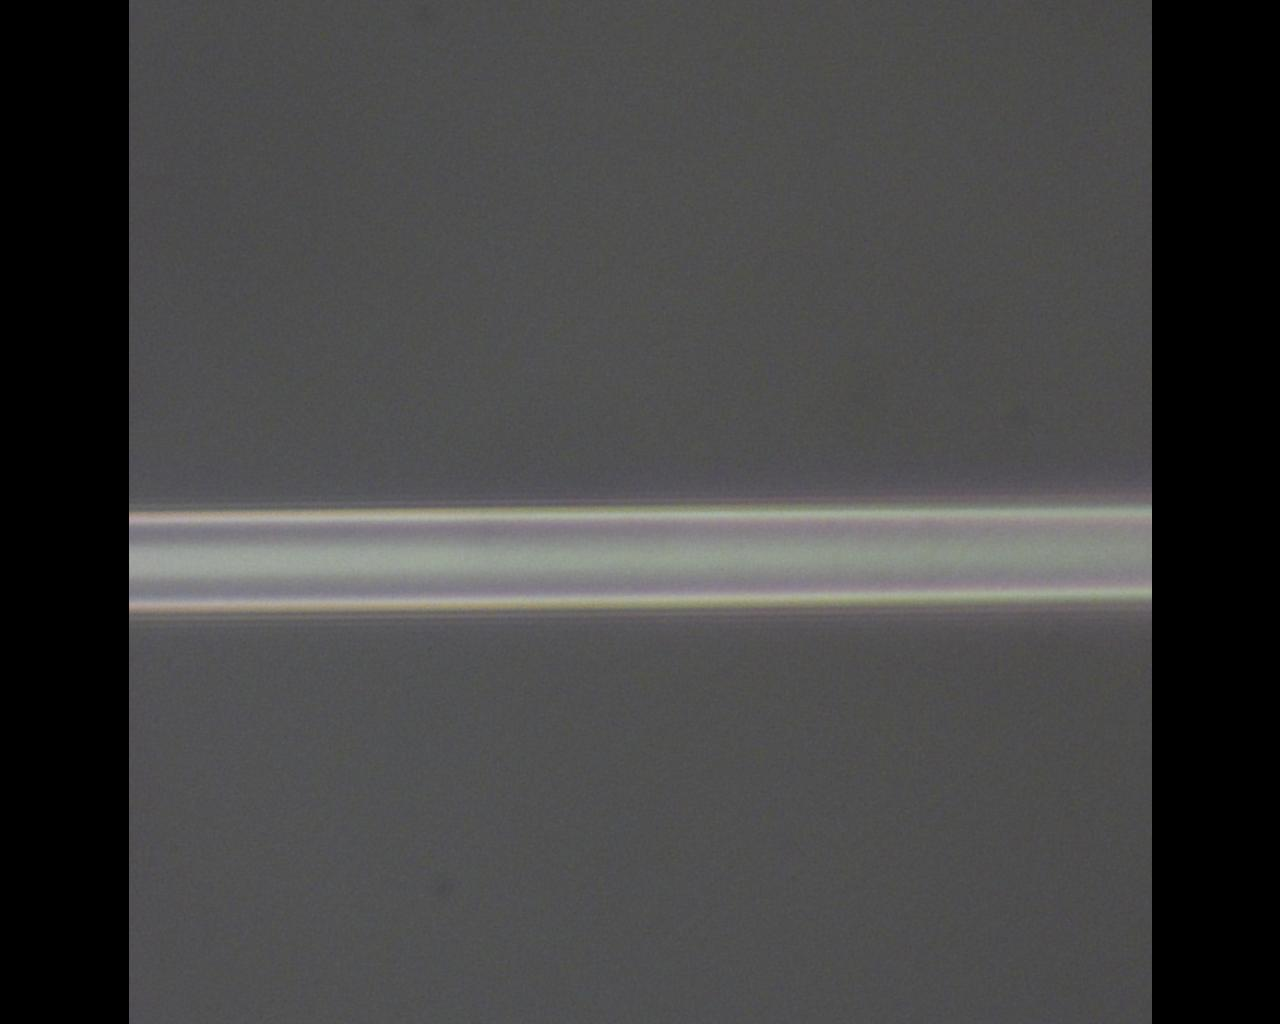fiber: (0, 596, 844, 1021), (844, 359, 1280, 1024), (844, 84, 1168, 358), (562, 0, 844, 181)
